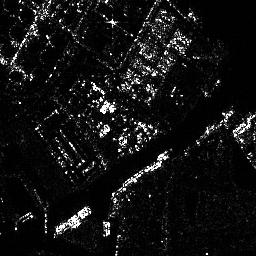ship: (55, 205, 92, 233)
